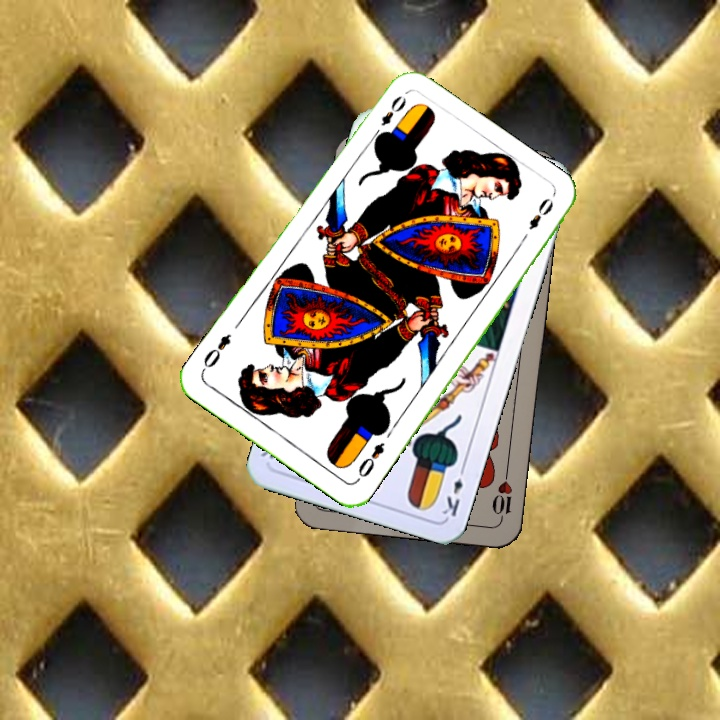EK: (438, 461, 468, 520)
EO: (368, 91, 410, 142), (352, 438, 387, 484)
H10: (489, 464, 515, 523)
